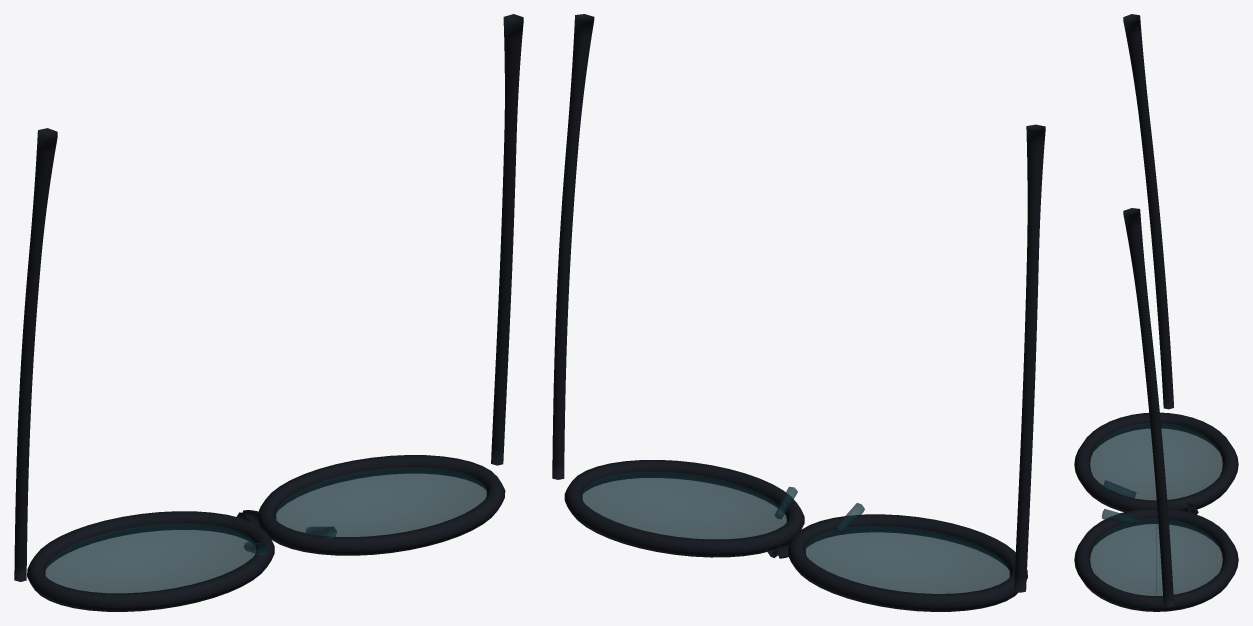
File: glasses_classic.glb
The picture shows the model from 3 angles, left to right: view 1: azimuth 30°, elevation 25°; view 2: azimuth 150°, elevation 25°; view 3: azimuth 270°, elevation 25°; orthographic projection. The views are drawn at different scales.
Parts seen in each view (by area): view 1: SM_AR_Glasses_Classic_LOD1; view 2: SM_AR_Glasses_Classic_LOD1; view 3: SM_AR_Glasses_Classic_LOD1.
Boxes of the visible parts, left/top/right/bottom form: SM_AR_Glasses_Classic_LOD1: left=14, top=14, right=523, bottom=611; SM_AR_Glasses_Classic_LOD1: left=552, top=14, right=1045, bottom=611; SM_AR_Glasses_Classic_LOD1: left=1074, top=14, right=1238, bottom=611.
Bounding box in the file's own units: 0.1368 × 0.1263 × 0.0465.
